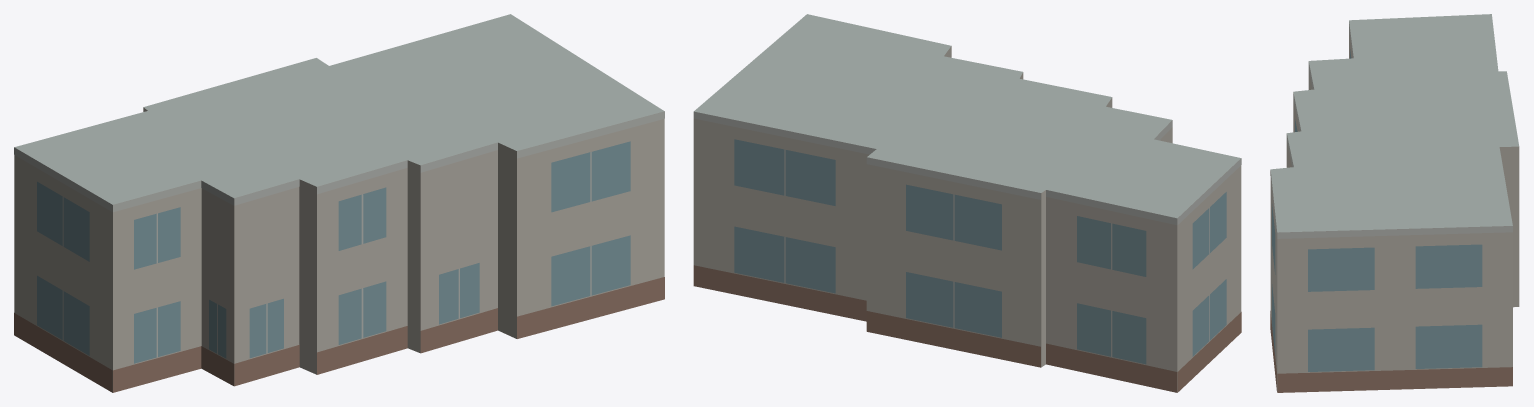
File: survey-upis-32708233.glb
3 views of the same model, side by side, from view 1: azimuth 30°, elevation 25°; view 2: azimuth 150°, elevation 25°; view 3: azimuth 270°, elevation 25° (orthographic). The views are drawn at different scales.
Parts seen in each view (by area): view 1: survey-upis-32708233.tmp; view 2: survey-upis-32708233.tmp; view 3: survey-upis-32708233.tmp.
Part boxes in pixels (box(x1,y1,x2,y2)): survey-upis-32708233.tmp: box(14, 14, 664, 392); survey-upis-32708233.tmp: box(693, 14, 1241, 392); survey-upis-32708233.tmp: box(1270, 14, 1519, 392).
Size of the model in its own units: 17.83 by 6.1 by 8.58.
